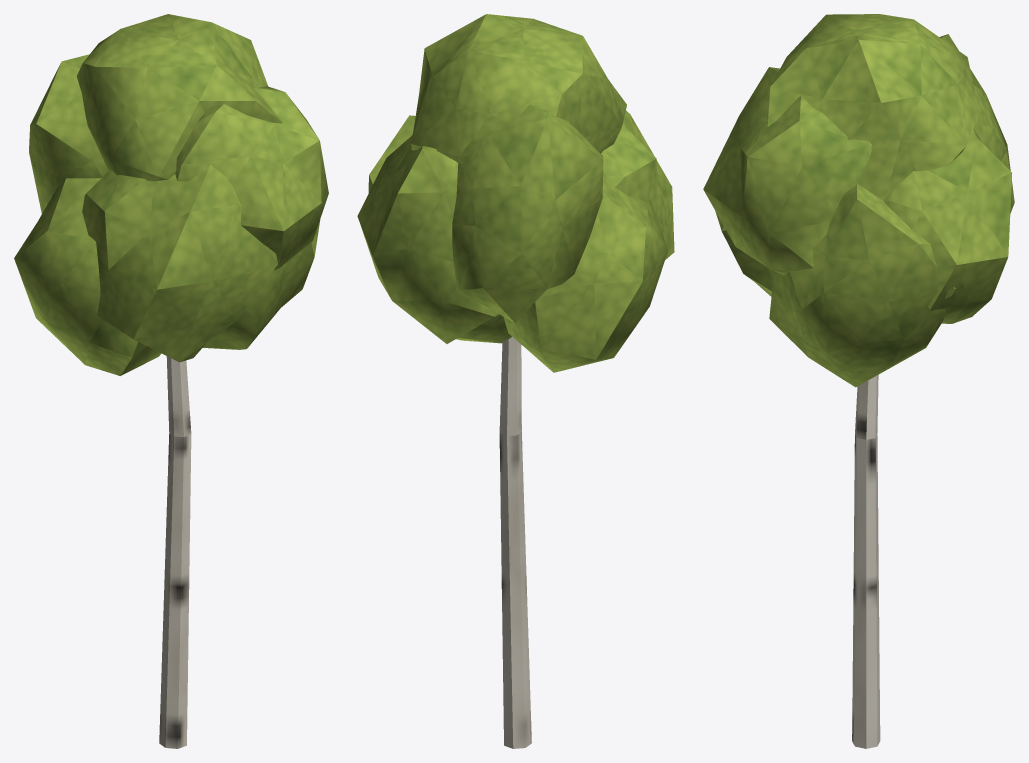
File: SM_Tree_Aspen01.fbx
The picture shows the model from 3 angles, left to right: view 1: azimuth 30°, elevation 25°; view 2: azimuth 150°, elevation 25°; view 3: azimuth 270°, elevation 25°; orthographic projection.
Parts seen in each view (by area): view 1: SM_Tree_Aspen01; view 2: SM_Tree_Aspen01; view 3: SM_Tree_Aspen01.
Boxes of the visible parts, x1=… form: SM_Tree_Aspen01: x1=14, y1=14, x2=328, y2=748; SM_Tree_Aspen01: x1=357, y1=14, x2=674, y2=748; SM_Tree_Aspen01: x1=703, y1=14, x2=1014, y2=748.
Size of the model in its own units: 7.67 by 19.22 by 7.54.
Materials: 1 (1 with a texture image).
